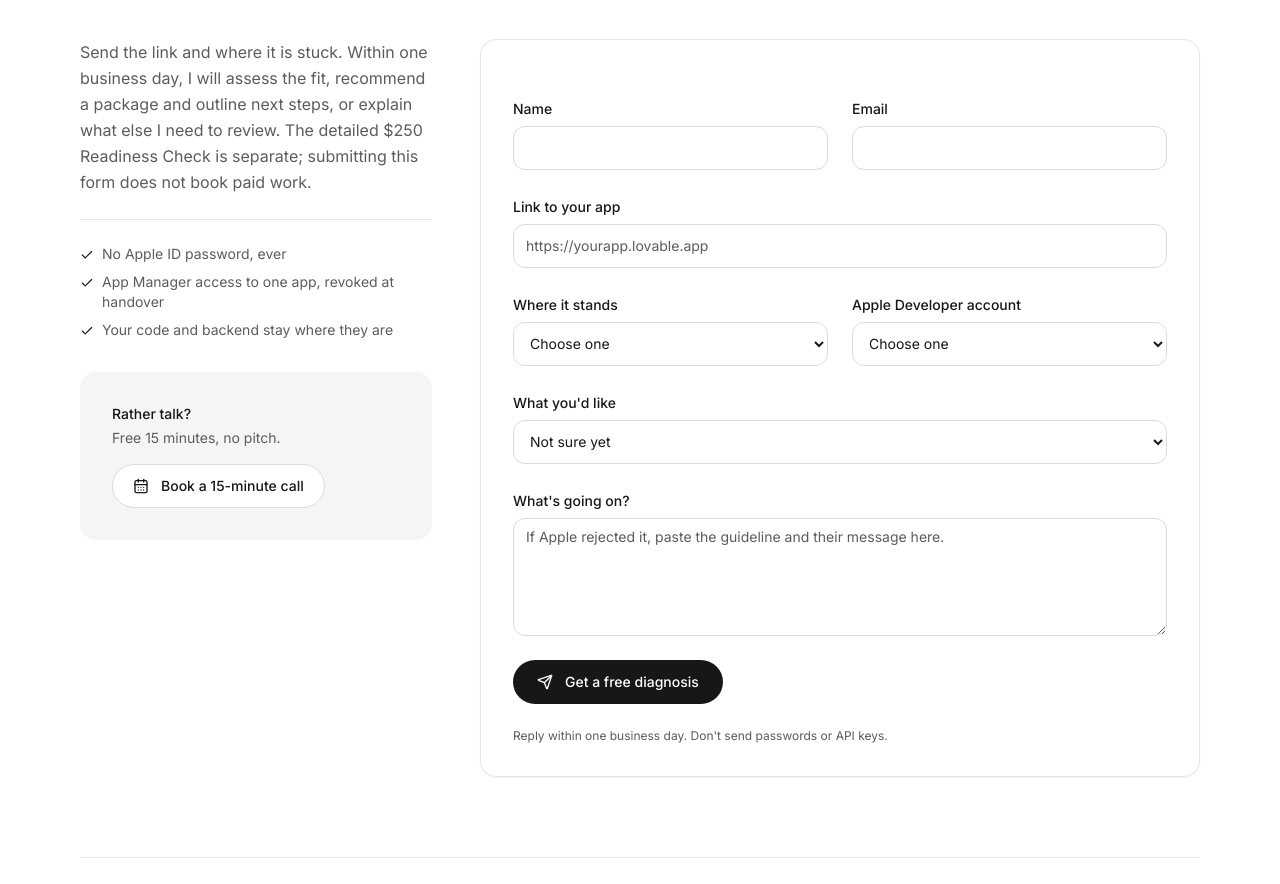
App Store launch page › intake form › puts the chosen package at the top of the details
The width and height of the screenshot is (1280, 884).
(page scrolled)
Step 1. Select "Readiness Check ($250)" in the dropdown labelled "What you'd like" → coordinates (840, 442), box 513,420 -> 1167,464
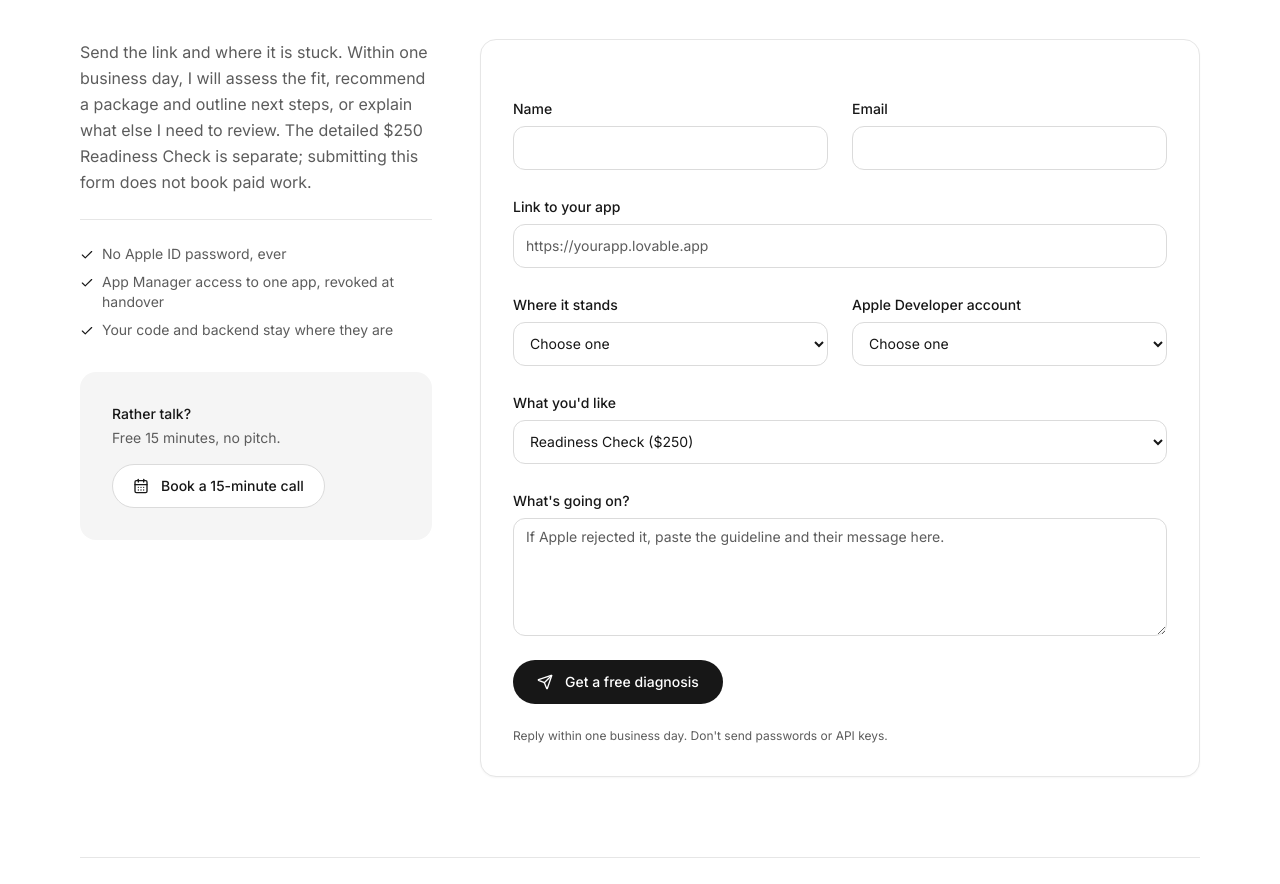
Step 2. Type "Sam" into the field labelled "Name" → coordinates (670, 148), box 513,126 -> 828,170
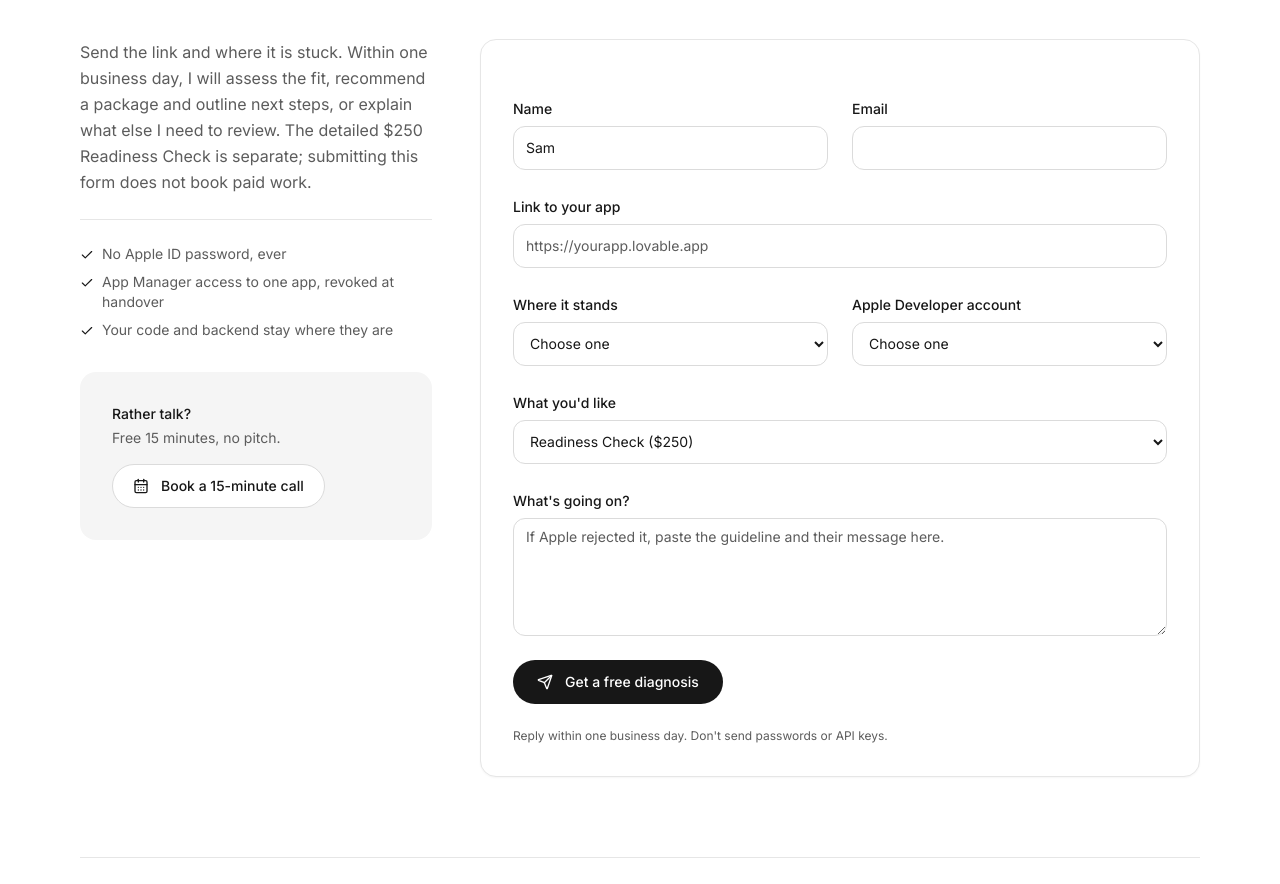
Step 3. Type "sam@example.com" into the field labelled "Email" → coordinates (1010, 148), box 852,126 -> 1167,170
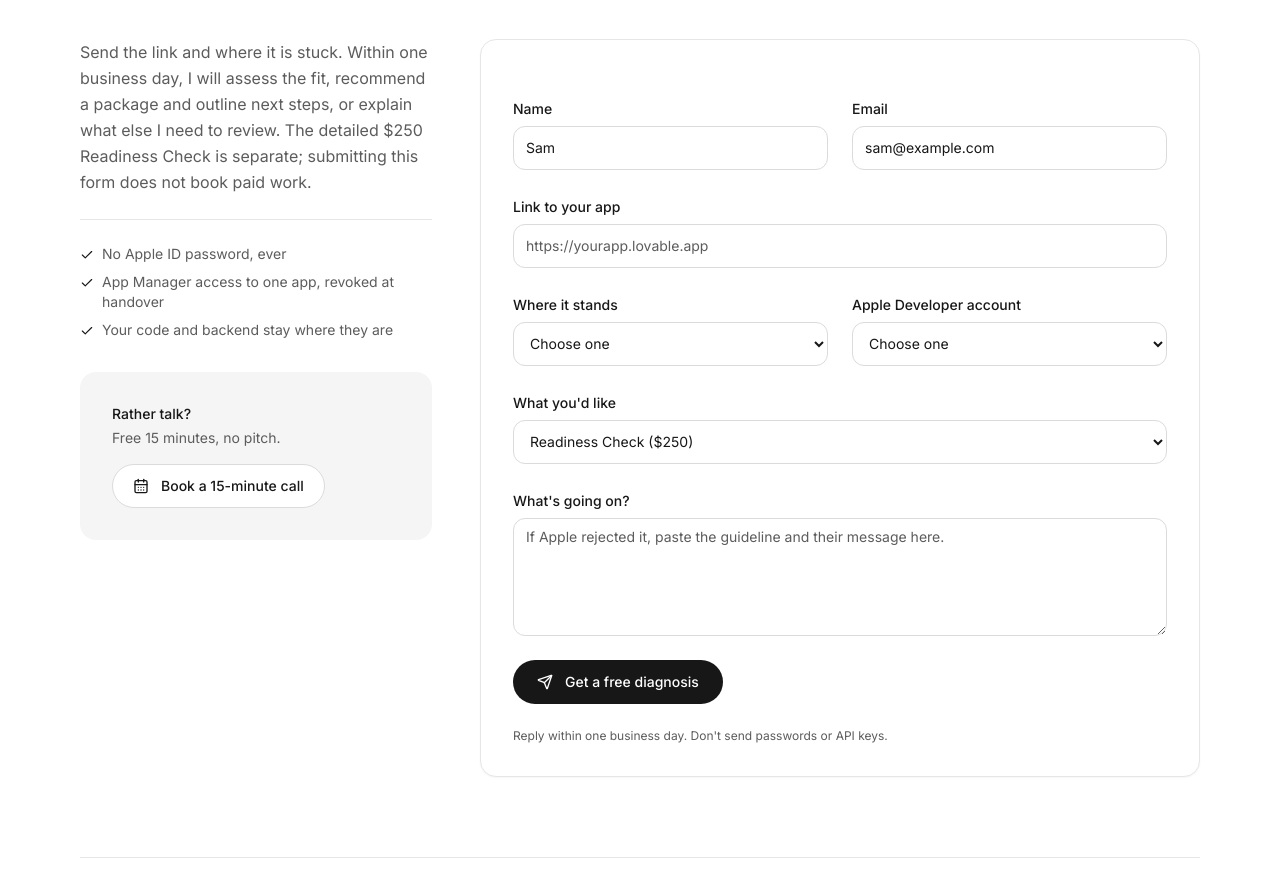
Step 4. Type "https://sam.lovable.app" into the field labelled "Link to your app" → coordinates (840, 246), box 513,224 -> 1167,268
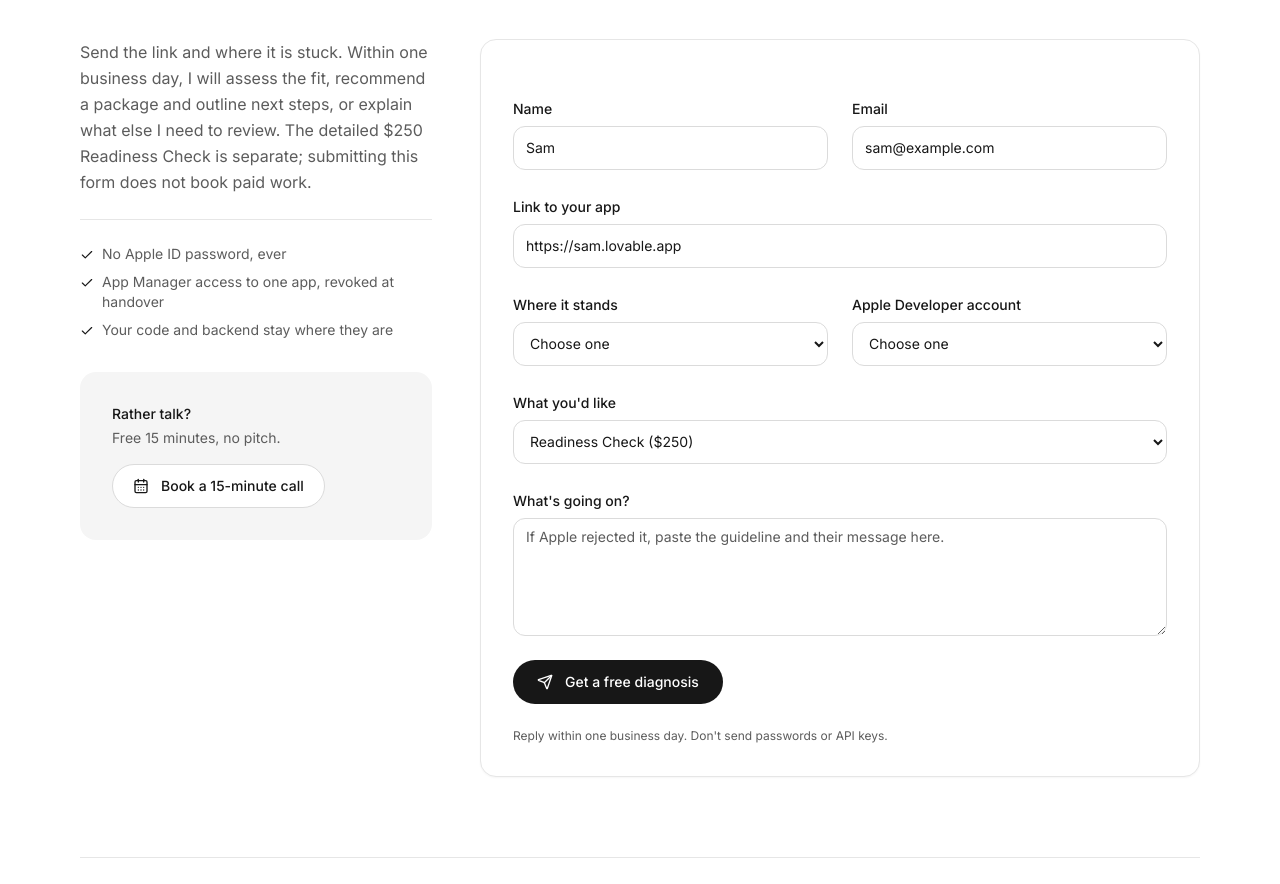
Step 5. Select "Rejected by Apple" in the dropdown labelled "Where it stands" → coordinates (670, 344), box 513,322 -> 828,366
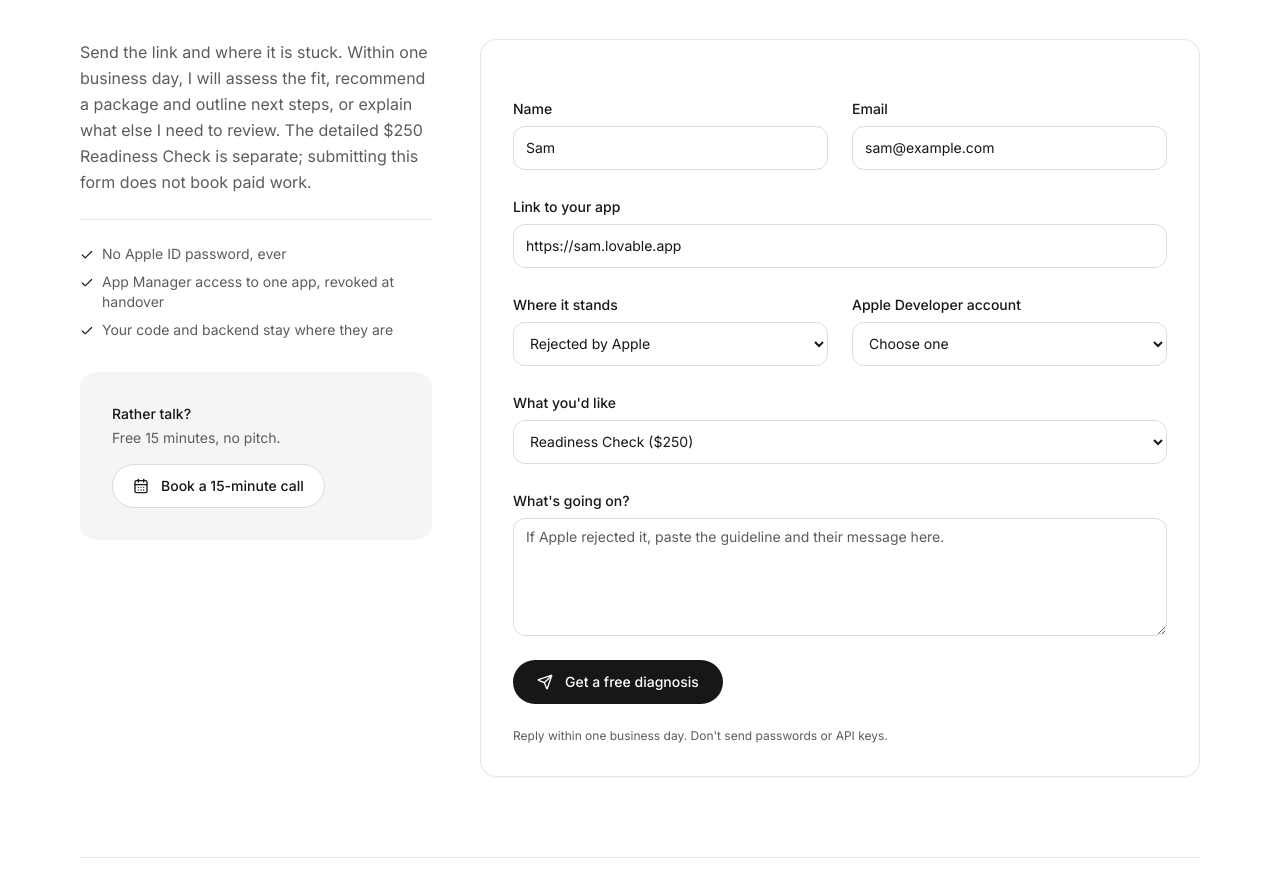
Step 6. Submit the form named "App Store intake", box 513,96 -> 1167,744
(page scrolled)
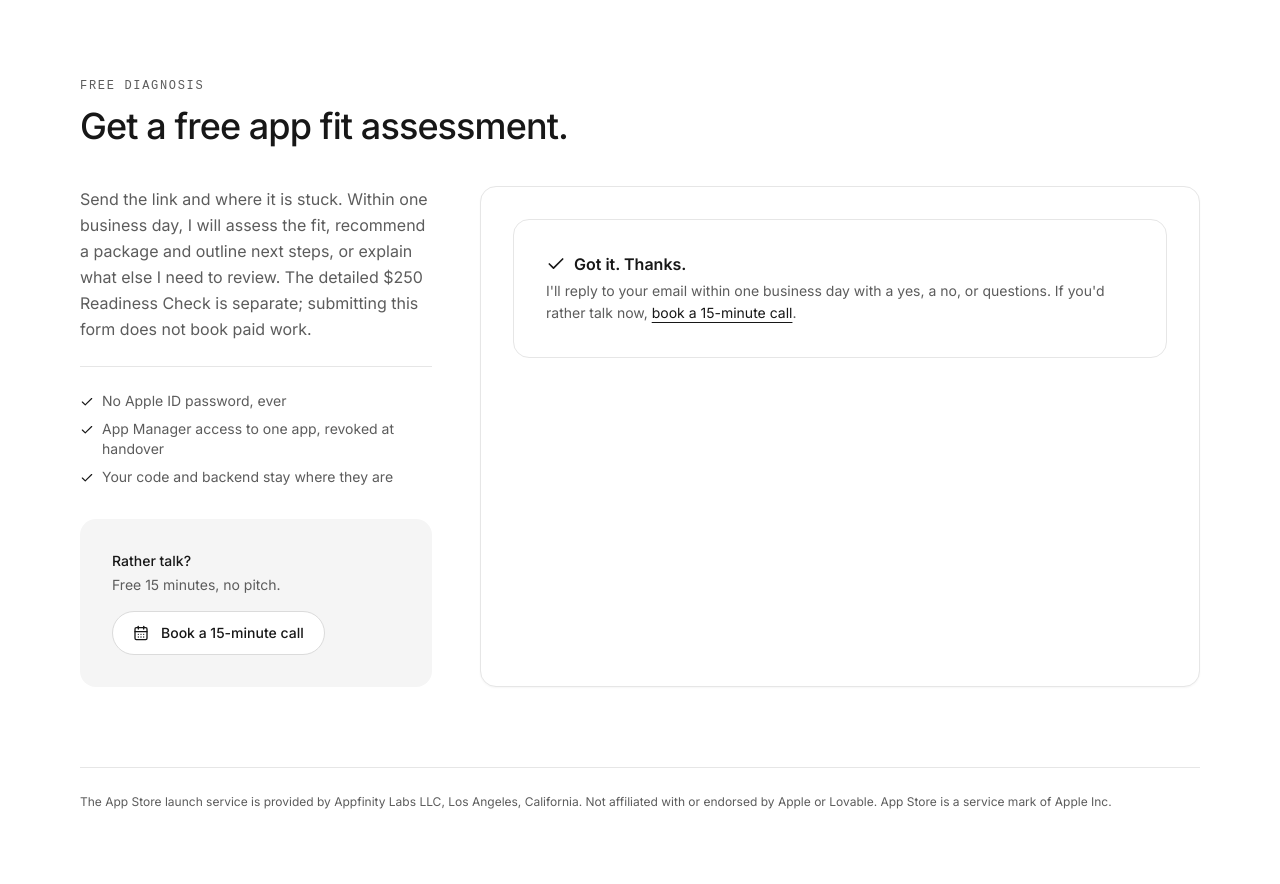
Check: the text "Got it. Thanks." is shown, box 546,254 -> 686,274
